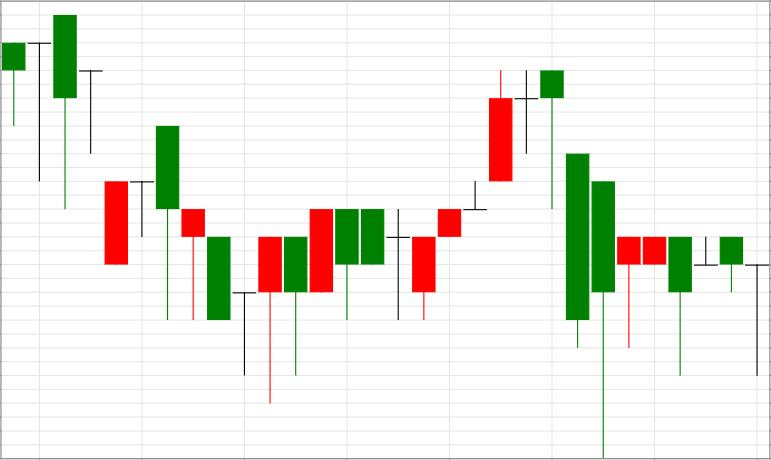hanging_man_fall: (411, 70, 563, 319)
